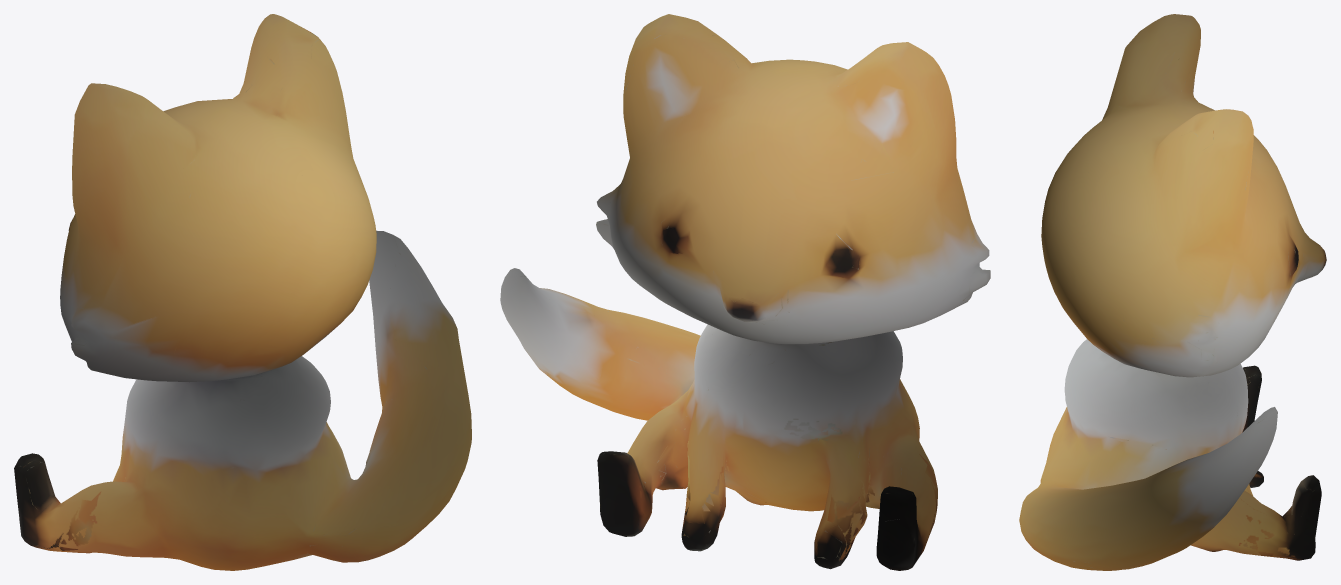
Rendered from fox_doll.glb.
The picture shows the model from 3 angles, left to right: view 1: azimuth 30°, elevation 25°; view 2: azimuth 150°, elevation 25°; view 3: azimuth 270°, elevation 25°; orthographic projection. The views are drawn at different scales.
Bounding box in the file's own units: 1.43 × 1.6 × 0.9776.
1 material, 1 textured.
